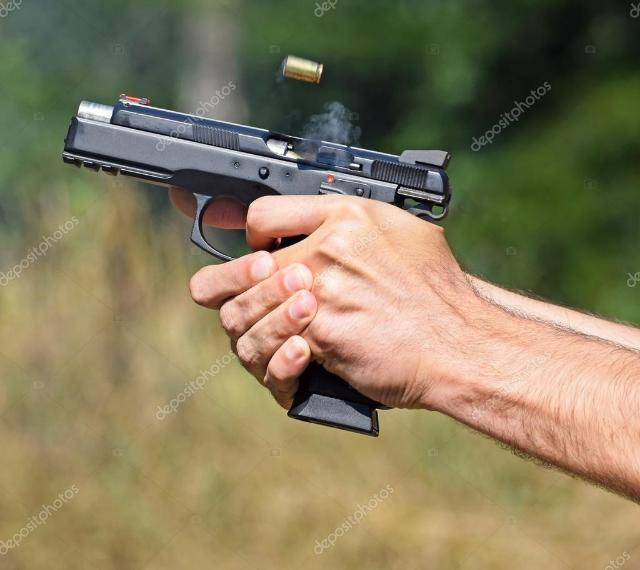handgun: (57, 85, 457, 445)
